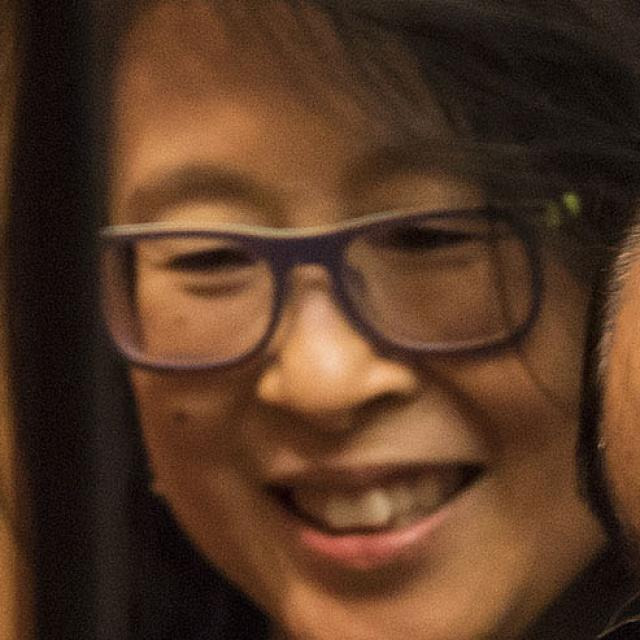Normal: (118, 8, 609, 639)
